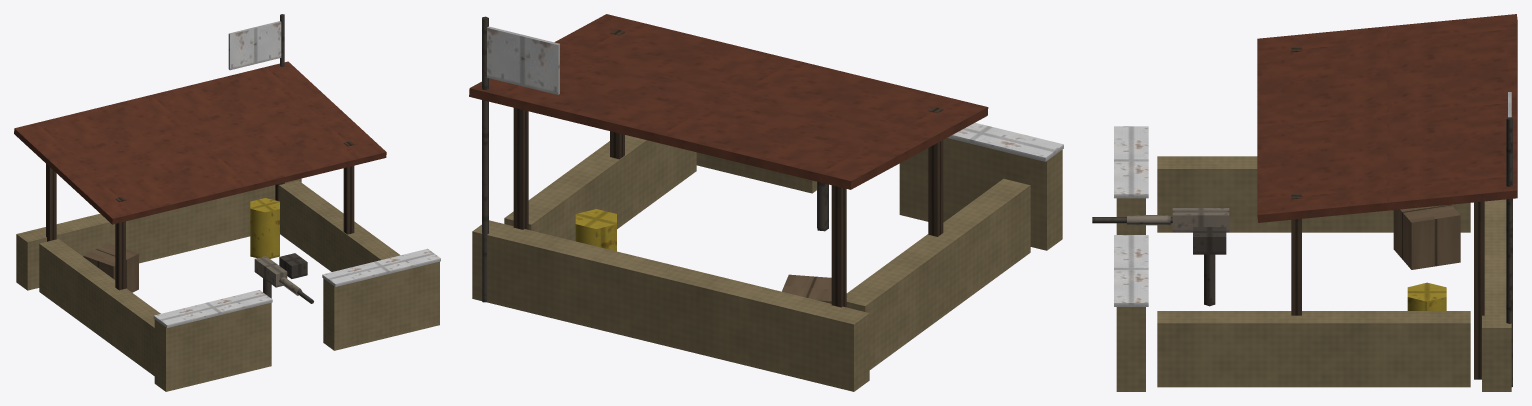
The picture shows the model from 3 angles, left to right: view 1: azimuth 30°, elevation 25°; view 2: azimuth 150°, elevation 25°; view 3: azimuth 270°, elevation 25°; orthographic projection. The views are drawn at different scales.
Visible parts, largest first — view 1: raider_building_mg_nest; view 2: raider_building_mg_nest; view 3: raider_building_mg_nest.
Part boxes in pixels (bbox=[...]): raider_building_mg_nest: bbox=[14, 14, 440, 391]; raider_building_mg_nest: bbox=[469, 14, 1063, 391]; raider_building_mg_nest: bbox=[1092, 14, 1517, 391].
Size of the model in its own units: 4.8 by 3.4 by 4.89.
Materials: 8 (8 with a texture image).
